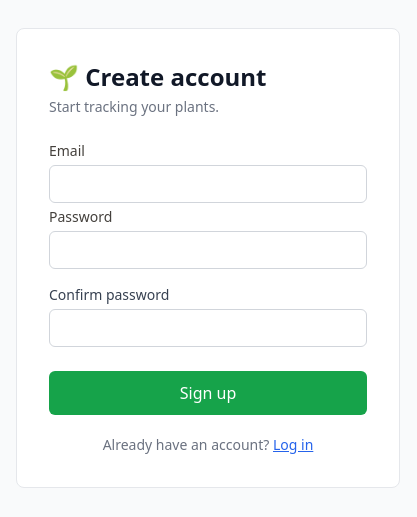
Scenario: Signup › shows an error when the two passwords don't match
Type "test@example.com" into the field labelled "Email". click: (208, 184)
box: [49,165,367,203]
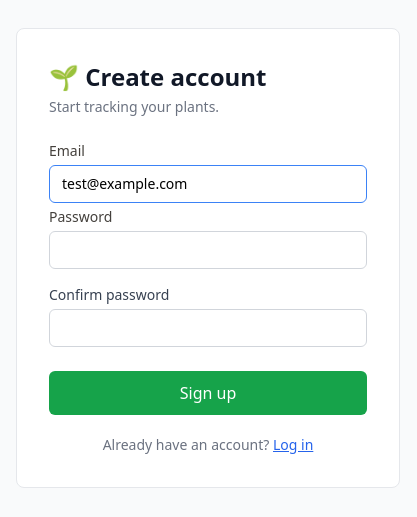
Type "password123" into the password field labelled "Password". click: (208, 250)
box: [49,231,367,269]
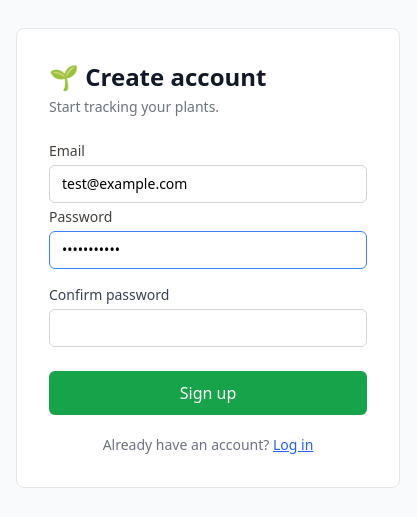
Type "password456" into the password field labelled "Confirm password". click: (208, 328)
box: [49,309,367,347]
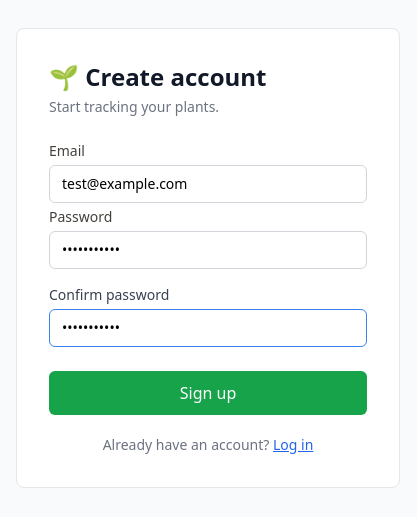
Click the button "Sign up". click: click(208, 393)
box: [49,371,367,415]
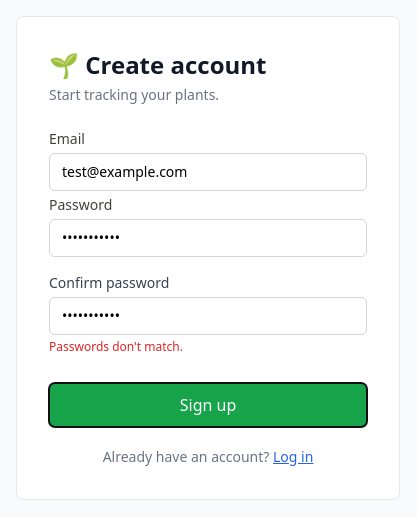
Expected: the text "Passwords don't match." is shown, [49,338,183,355]
